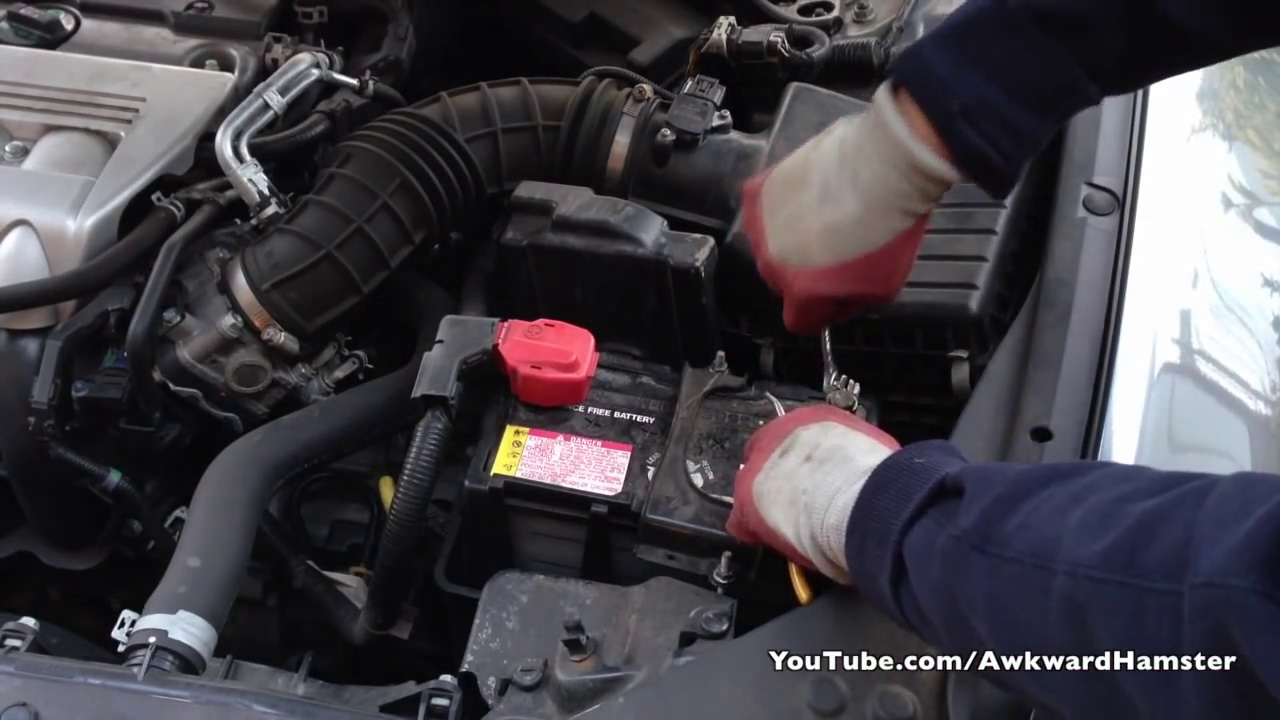battery: (472, 316, 861, 565)
neg_touched: (729, 353, 905, 532)
pos_connected: (436, 315, 607, 415)
